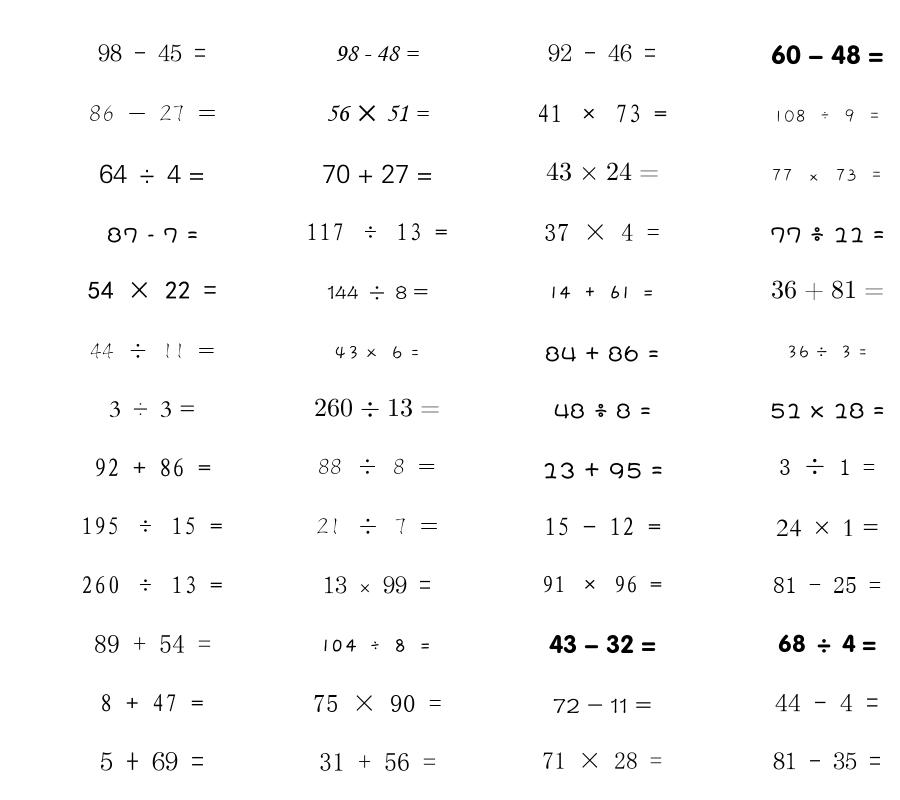MQ: (306, 223, 448, 241), (81, 517, 223, 535), (81, 576, 223, 594), (537, 104, 667, 123), (314, 398, 440, 417), (771, 280, 884, 301), (88, 281, 217, 299), (771, 45, 884, 65), (94, 458, 211, 477), (544, 517, 661, 536), (319, 752, 436, 771), (322, 164, 433, 184), (313, 695, 442, 712), (542, 575, 662, 593), (89, 105, 216, 122), (546, 162, 659, 181), (549, 634, 656, 654), (99, 164, 205, 184), (94, 635, 211, 653), (544, 223, 660, 241), (100, 751, 204, 771), (316, 518, 438, 535), (542, 462, 663, 479), (542, 752, 662, 769), (90, 343, 215, 359), (770, 402, 885, 419), (98, 44, 206, 62), (548, 44, 656, 62), (323, 576, 431, 594), (773, 752, 881, 770), (545, 345, 659, 362), (318, 458, 436, 474), (100, 694, 204, 712), (775, 694, 879, 712), (778, 634, 876, 653), (776, 519, 879, 537), (770, 227, 885, 243), (326, 105, 429, 122), (773, 577, 881, 593), (779, 458, 875, 475), (554, 403, 651, 419), (327, 285, 428, 300), (773, 109, 881, 123), (553, 698, 652, 713), (109, 401, 196, 418), (550, 285, 655, 299), (771, 169, 883, 182), (107, 227, 198, 243), (322, 639, 432, 652), (335, 45, 419, 61), (334, 345, 420, 360), (786, 345, 868, 359)
